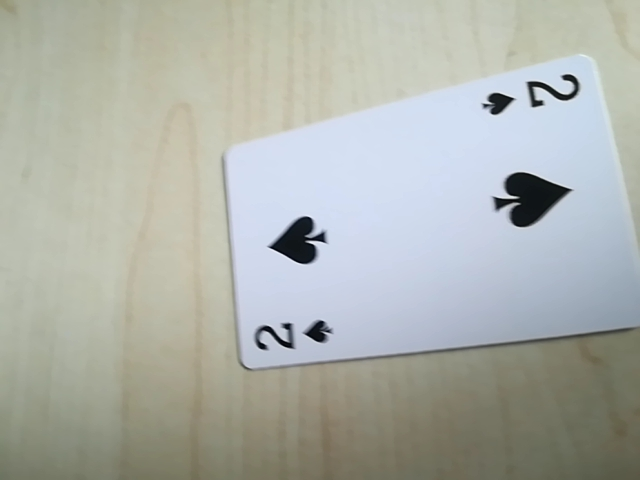ht 2: (475, 68, 592, 126), (248, 308, 339, 369)
